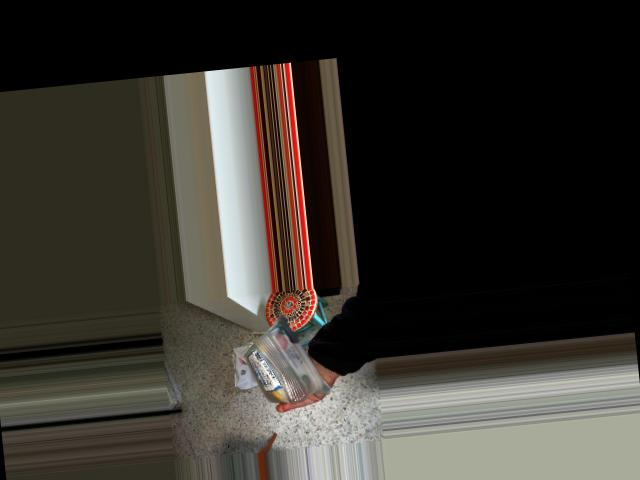cheese: (222, 343, 316, 391)
